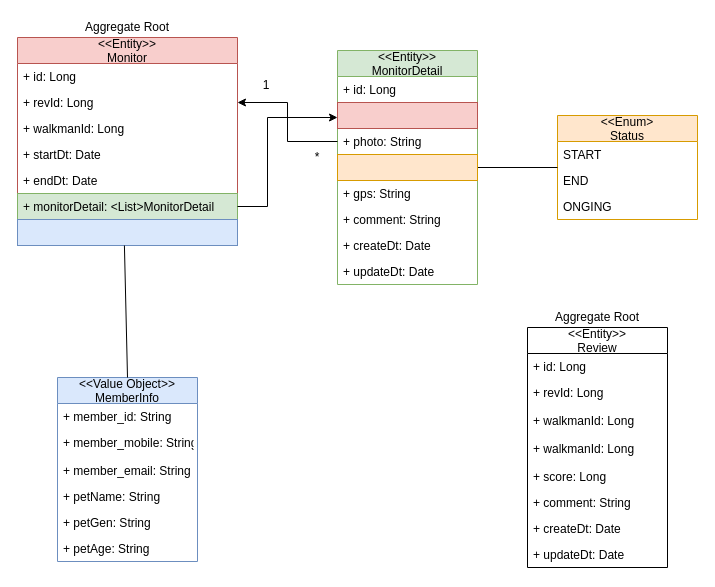
The diagram is 715 pixels wide and 587 high, and some of its shapes have lost their labels. The shapes that lost their labels are listed below. From the top down, each one's centre as x and y in pixels, then its label:
the point at 407,115: +monitor: Monitor
the point at 407,167: + status: Status
the point at 127,232: + member: MemberInfo
